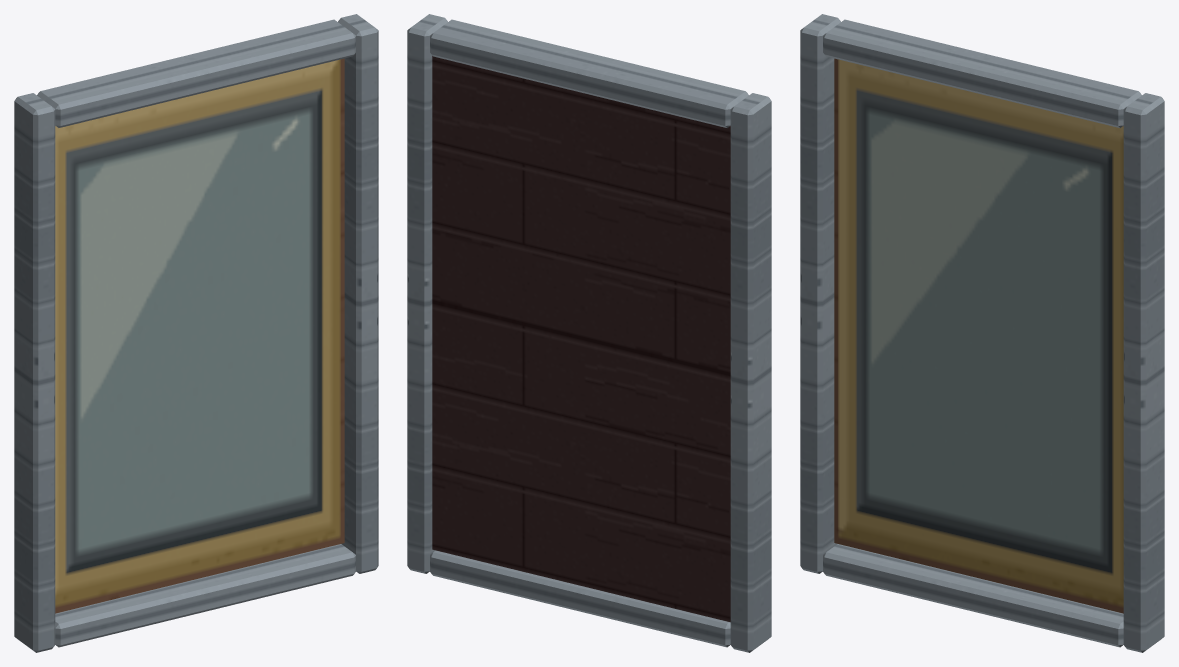
The model's file is MD_96_BathroomMirror.fbx.
The picture shows the model from 3 angles, left to right: view 1: azimuth 30°, elevation 25°; view 2: azimuth 150°, elevation 25°; view 3: azimuth 330°, elevation 25°; orthographic projection.
Parts seen in each view (by area): view 1: MD_96_BathroomMirror_mirror_inset, MD_96_BathroomMirror_mirror_upright, MD_96_BathroomMirror_mirror_upright.001, MD_96_BathroomMirror_mirror_cross.001, MD_96_BathroomMirror_mirror_cross; view 2: MD_96_BathroomMirror_mirror_inset, MD_96_BathroomMirror_mirror_upright, MD_96_BathroomMirror_mirror_upright.001, MD_96_BathroomMirror_mirror_cross.001, MD_96_BathroomMirror_mirror_cross; view 3: MD_96_BathroomMirror_mirror_inset, MD_96_BathroomMirror_mirror_upright.001, MD_96_BathroomMirror_mirror_upright, MD_96_BathroomMirror_mirror_cross.001, MD_96_BathroomMirror_mirror_cross.
Boxes of the visible parts, left/top/right/bottom form: MD_96_BathroomMirror_mirror_inset: left=55, top=58, right=344, bottom=613; MD_96_BathroomMirror_mirror_upright: left=14, top=93, right=55, bottom=652; MD_96_BathroomMirror_mirror_upright.001: left=338, top=14, right=378, bottom=573; MD_96_BathroomMirror_mirror_cross.001: left=37, top=19, right=355, bottom=127; MD_96_BathroomMirror_mirror_cross: left=55, top=544, right=355, bottom=647; MD_96_BathroomMirror_mirror_inset: left=432, top=56, right=730, bottom=622; MD_96_BathroomMirror_mirror_upright: left=730, top=93, right=771, bottom=652; MD_96_BathroomMirror_mirror_upright.001: left=407, top=14, right=447, bottom=573; MD_96_BathroomMirror_mirror_cross.001: left=430, top=19, right=748, bottom=127; MD_96_BathroomMirror_mirror_cross: left=430, top=550, right=730, bottom=647; MD_96_BathroomMirror_mirror_inset: left=834, top=58, right=1123, bottom=613; MD_96_BathroomMirror_mirror_upright.001: left=1123, top=93, right=1164, bottom=652; MD_96_BathroomMirror_mirror_upright: left=800, top=14, right=840, bottom=573; MD_96_BathroomMirror_mirror_cross.001: left=823, top=19, right=1141, bottom=127; MD_96_BathroomMirror_mirror_cross: left=823, top=544, right=1123, bottom=647.
Bounding box in the file's own units: 0.8 × 1.2 × 0.09.
3 materials, 3 textured.
